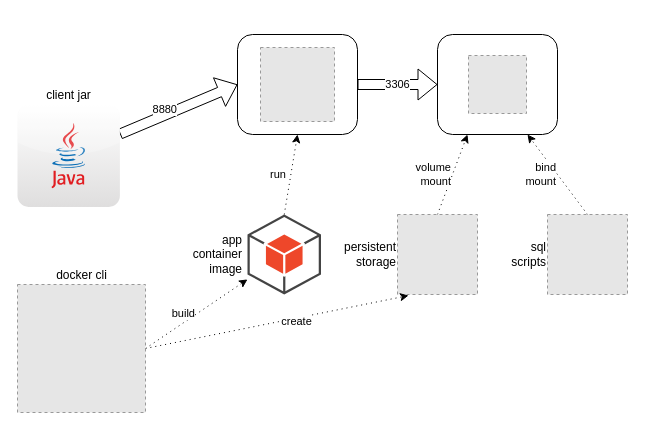
Some shapes in this 645 by 430 pixel diagram are drawn without their labels. Grey dashed boxes stand in for pictures. The shapes that lost their labels are listed below. From the top down, each one's box as (x1, y1, x2, y2) in pixels, then its label:
(236, 34, 358, 134): app container
(436, 34, 558, 134): bd container
